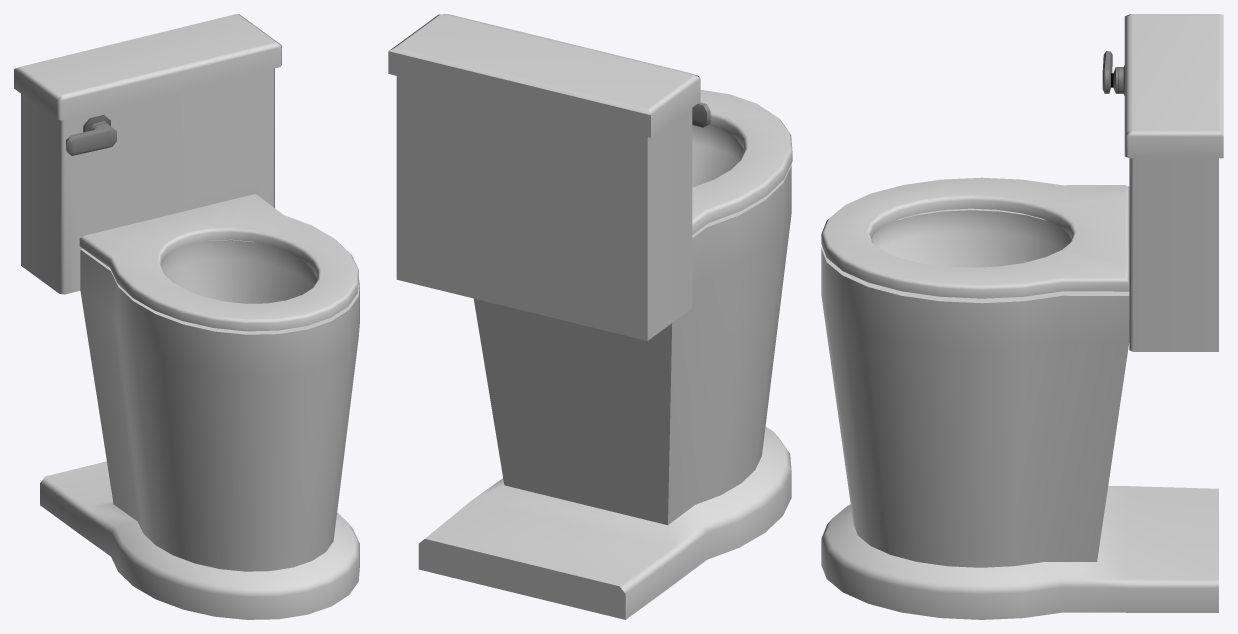
File: sample.glb
3 renders of one model, left to right at view 1: azimuth 30°, elevation 25°; view 2: azimuth 150°, elevation 25°; view 3: azimuth 270°, elevation 25°, orthographic. The views are drawn at different scales.
Visible parts, largest first — view 1: Toilet_EE_01.001MeshLOD0; view 2: Toilet_EE_01.001MeshLOD0; view 3: Toilet_EE_01.001MeshLOD0.
Part boxes in pixels (<box>): Toilet_EE_01.001MeshLOD0: <box>14,14,359,619</box>; Toilet_EE_01.001MeshLOD0: <box>388,14,792,619</box>; Toilet_EE_01.001MeshLOD0: <box>821,14,1223,619</box>.
Size of what is drawn, in the model's own units: 0.4049 by 0.7615 by 0.5643.
2 materials, 2 textured.
